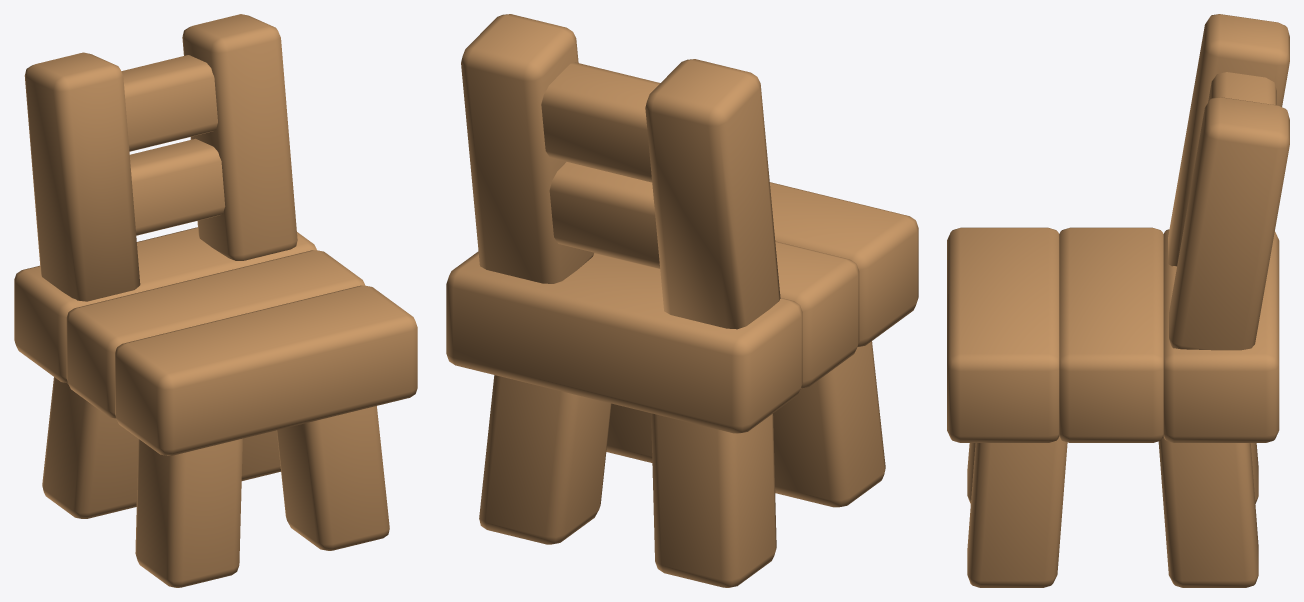
File: Furniture_Chair_01.glb
The picture shows the model from 3 angles, left to right: view 1: azimuth 30°, elevation 25°; view 2: azimuth 150°, elevation 25°; view 3: azimuth 270°, elevation 25°; orthographic projection. The views are drawn at different scales.
Visible parts, largest first — view 1: SM_Furniture_Chair_01; view 2: SM_Furniture_Chair_01; view 3: SM_Furniture_Chair_01.
Boxes of the visible parts, x1,y1,x2,y2 form: SM_Furniture_Chair_01: (14,14,417,587); SM_Furniture_Chair_01: (446,14,918,587); SM_Furniture_Chair_01: (947,14,1289,587).
Size of the model in its own units: 0.9741 by 1.55 by 1.03.
1 material, 1 textured.
